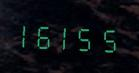five: (78, 20, 97, 54), (98, 21, 117, 55)
one: (18, 17, 37, 51), (58, 19, 77, 53)
six: (38, 18, 57, 52)
